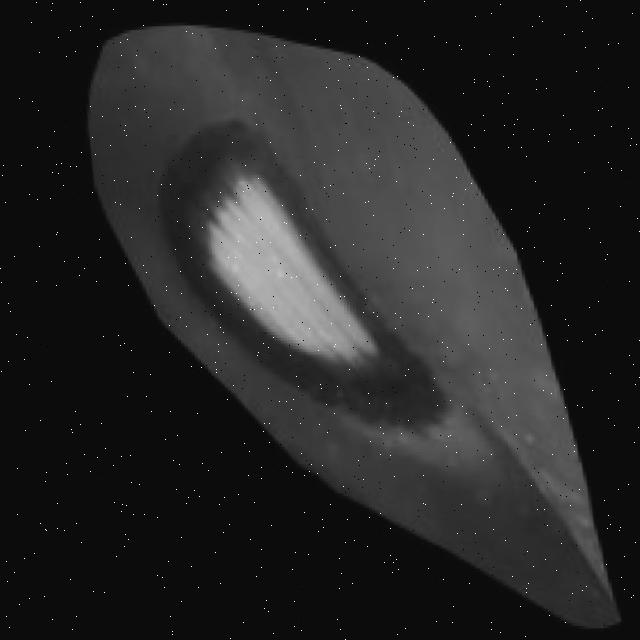sunburn: (140, 107, 457, 454)
